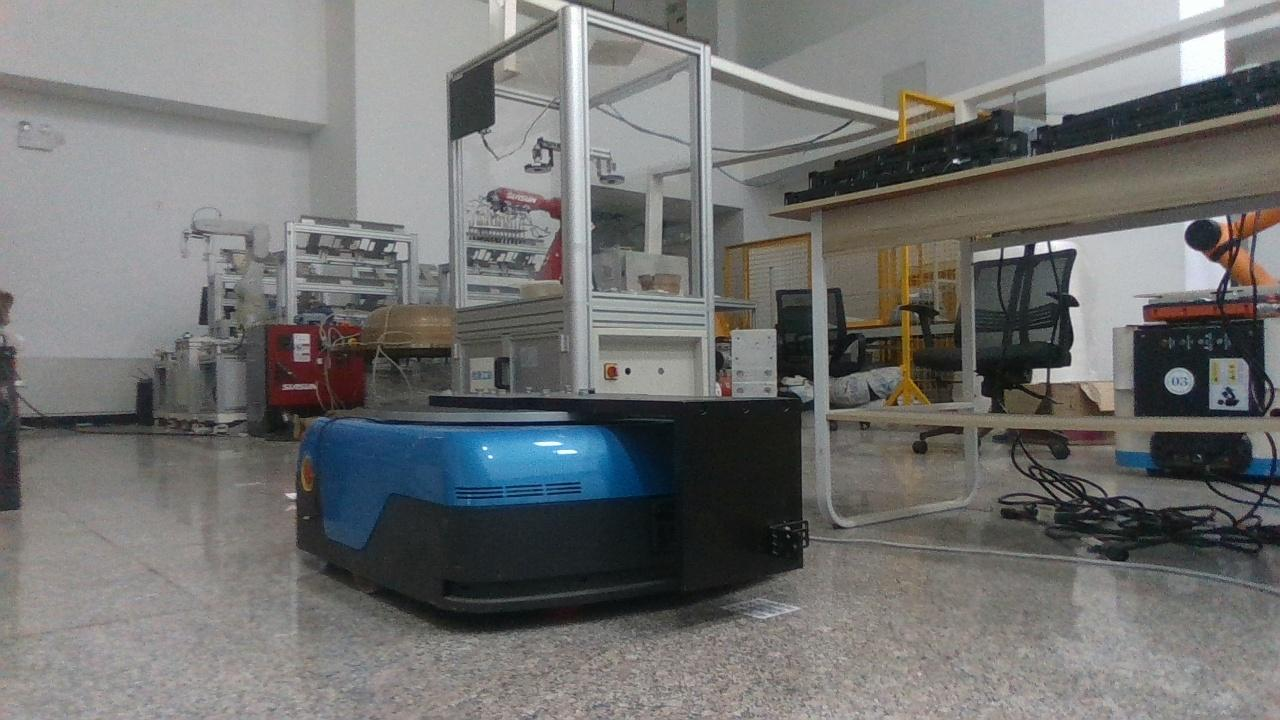AGV: (295, 395, 810, 611)
